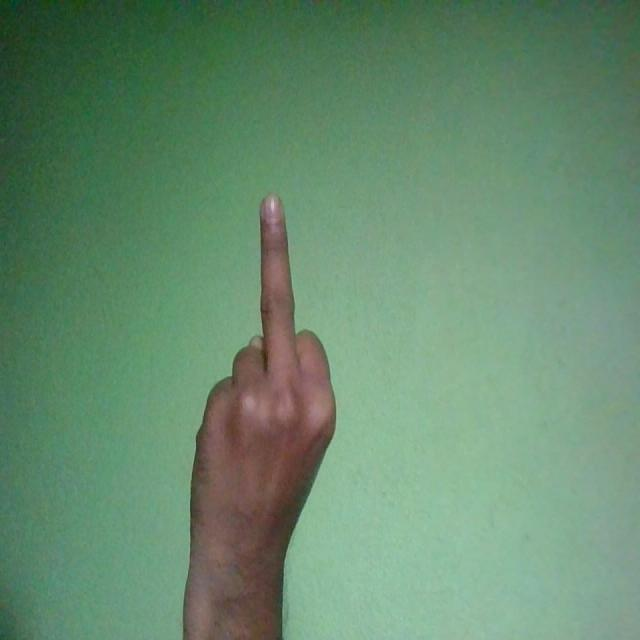Middle Finger: (188, 193, 338, 619)
